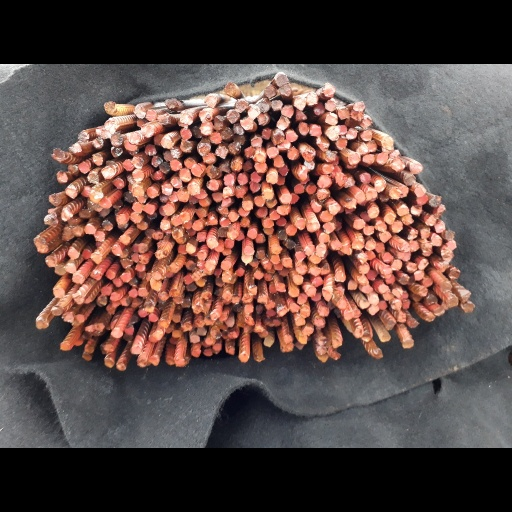dipstick: (32, 236, 50, 253), (203, 92, 219, 109), (324, 124, 339, 142), (198, 107, 214, 123), (43, 210, 59, 226), (420, 238, 434, 256), (223, 81, 238, 97), (277, 82, 293, 97), (275, 115, 291, 130), (301, 146, 317, 161), (327, 344, 342, 360), (177, 112, 194, 126), (273, 71, 290, 85), (316, 135, 330, 152), (271, 128, 285, 145), (214, 143, 228, 160), (100, 165, 117, 179), (89, 185, 103, 202), (295, 163, 308, 181), (46, 192, 64, 205), (196, 141, 211, 156), (190, 162, 205, 177), (103, 119, 118, 134), (316, 187, 331, 202), (321, 82, 335, 98), (257, 97, 271, 113), (354, 140, 370, 154), (205, 164, 221, 178), (381, 135, 395, 151), (275, 203, 292, 216), (221, 270, 238, 283), (304, 91, 318, 106), (234, 99, 249, 113), (308, 122, 322, 137), (324, 110, 338, 125), (335, 135, 349, 150), (286, 145, 300, 160), (226, 109, 241, 123), (178, 167, 192, 182), (55, 169, 70, 183), (361, 152, 376, 166), (440, 247, 454, 262), (213, 114, 226, 130), (127, 131, 143, 144), (318, 162, 335, 174), (360, 113, 374, 127), (347, 152, 361, 166), (239, 116, 253, 130), (199, 121, 213, 135), (208, 130, 222, 144), (227, 140, 241, 154), (254, 160, 268, 174), (234, 185, 248, 199), (429, 232, 443, 246), (335, 296, 349, 310), (424, 291, 438, 305), (264, 84, 277, 99), (293, 95, 306, 110), (313, 101, 326, 116), (297, 121, 310, 136), (141, 123, 154, 138), (123, 139, 138, 152), (66, 163, 81, 176), (176, 187, 189, 202), (390, 158, 405, 171), (409, 161, 424, 174), (387, 186, 402, 199), (51, 285, 66, 298), (201, 152, 217, 164), (65, 183, 77, 199), (344, 172, 356, 188), (315, 242, 327, 258), (281, 104, 294, 118), (294, 107, 307, 121), (336, 106, 349, 120), (247, 104, 260, 118), (345, 127, 358, 141), (285, 129, 299, 142), (218, 126, 232, 139), (190, 124, 203, 138), (323, 149, 336, 163), (218, 159, 231, 173), (131, 155, 145, 168), (109, 133, 123, 146), (110, 144, 124, 157), (77, 160, 91, 173), (317, 174, 331, 187), (80, 184, 93, 198), (98, 195, 112, 208), (62, 226, 75, 240), (402, 172, 416, 185), (432, 204, 446, 217), (226, 227, 240, 240), (340, 242, 353, 256), (202, 334, 216, 347), (294, 261, 307, 275), (293, 313, 307, 326), (349, 110, 364, 122), (134, 103, 146, 118), (162, 134, 174, 149), (230, 157, 242, 172), (241, 158, 253, 173), (68, 142, 83, 154), (131, 184, 146, 196), (334, 172, 346, 187), (342, 197, 357, 209), (373, 219, 388, 231), (447, 267, 462, 279), (305, 221, 321, 232), (235, 312, 246, 328), (359, 128, 372, 141), (260, 127, 273, 140), (232, 122, 245, 135), (252, 150, 265, 163), (152, 133, 165, 146), (180, 127, 193, 140), (179, 140, 192, 153), (206, 178, 219, 191), (143, 143, 156, 156), (122, 158, 135, 171), (132, 169, 145, 182), (146, 186, 159, 199), (222, 186, 235, 199), (129, 211, 142, 224), (85, 196, 98, 209), (67, 245, 80, 258), (179, 211, 192, 224), (358, 171, 371, 184), (407, 239, 420, 252), (174, 357, 187, 370), (262, 335, 275, 348), (164, 97, 178, 109), (352, 100, 366, 112), (336, 122, 348, 136), (277, 139, 291, 151), (248, 181, 262, 193), (169, 159, 183, 171), (150, 155, 164, 167), (158, 160, 170, 174), (51, 148, 65, 160), (86, 170, 100, 182), (112, 176, 126, 188), (170, 176, 184, 188), (188, 182, 200, 196), (252, 195, 266, 207), (101, 218, 113, 232), (92, 230, 106, 242), (376, 151, 388, 165), (396, 204, 410, 216), (320, 210, 334, 222), (322, 222, 336, 234), (400, 213, 414, 225), (63, 262, 77, 274), (53, 264, 67, 276), (35, 318, 49, 330), (310, 275, 324, 287), (299, 304, 311, 318), (311, 316, 325, 328), (417, 257, 429, 271), (231, 133, 246, 144), (43, 255, 58, 266), (308, 253, 323, 264), (328, 239, 343, 250), (118, 271, 133, 282), (145, 109, 157, 122), (157, 112, 169, 125), (325, 97, 337, 110), (257, 112, 269, 125), (250, 135, 262, 148), (104, 101, 116, 114), (273, 154, 285, 167), (266, 171, 278, 184), (183, 157, 196, 169), (170, 145, 182, 158), (77, 130, 90, 142), (91, 153, 104, 165), (293, 182, 305, 195), (124, 190, 136, 203), (142, 203, 155, 215), (61, 208, 73, 221), (327, 203, 340, 215), (397, 184, 409, 197), (414, 184, 426, 197), (429, 195, 442, 207), (293, 218, 306, 230), (353, 191, 365, 204), (365, 189, 378, 201), (419, 227, 432, 239), (352, 237, 364, 250), (285, 223, 297, 236), (269, 243, 282, 255), (240, 251, 253, 263), (104, 268, 117, 280), (95, 294, 108, 306), (103, 356, 115, 369), (215, 275, 227, 288), (287, 286, 300, 298), (331, 336, 344, 348), (321, 289, 333, 302), (367, 292, 379, 305), (357, 262, 370, 274), (405, 262, 418, 274), (440, 280, 452, 293), (266, 147, 280, 158), (302, 159, 316, 170), (150, 170, 164, 181), (305, 181, 316, 195), (389, 221, 403, 232), (378, 231, 392, 242), (352, 218, 366, 229), (194, 231, 208, 242), (120, 257, 134, 268), (150, 277, 161, 291), (287, 302, 301, 313), (401, 338, 415, 349), (432, 305, 446, 316), (396, 250, 410, 261), (135, 117, 149, 128), (244, 144, 254, 159), (71, 273, 86, 283), (100, 343, 115, 353), (359, 283, 374, 293), (270, 98, 282, 110), (162, 204, 174, 216), (115, 213, 127, 225), (78, 208, 94, 217), (111, 244, 123, 256), (159, 218, 171, 230), (206, 214, 218, 226), (310, 200, 322, 212), (411, 204, 423, 216), (367, 206, 379, 218), (239, 216, 251, 228), (204, 259, 216, 271), (252, 269, 264, 281), (318, 232, 330, 244), (168, 261, 180, 273), (123, 323, 135, 335), (237, 351, 249, 363), (262, 315, 274, 327), (304, 285, 316, 297), (296, 293, 308, 305), (352, 326, 364, 338), (334, 270, 346, 282), (390, 298, 402, 310), (390, 259, 402, 271), (223, 172, 234, 185), (279, 193, 292, 204), (91, 137, 104, 148), (195, 188, 208, 199), (98, 207, 111, 218), (83, 224, 96, 235), (366, 139, 377, 152), (374, 179, 385, 192), (383, 213, 396, 224), (359, 211, 372, 222), (434, 220, 445, 233), (443, 230, 456, 241), (374, 241, 385, 254), (283, 239, 296, 250), (206, 238, 219, 249), (295, 250, 306, 263), (303, 245, 316, 256), (73, 292, 84, 305), (61, 311, 74, 322), (58, 340, 71, 351), (100, 285, 113, 296), (110, 327, 123, 338), (210, 326, 221, 339), (228, 326, 239, 339), (291, 274, 304, 285), (296, 333, 309, 344), (314, 335, 327, 346), (315, 345, 328, 356), (460, 292, 473, 303), (198, 196, 212, 206), (237, 207, 251, 217), (254, 207, 268, 217), (88, 270, 102, 280), (256, 328, 270, 338), (307, 266, 321, 276), (462, 303, 476, 313), (376, 284, 390, 294), (237, 173, 248, 185), (125, 171, 136, 183), (162, 183, 173, 195), (212, 191, 223, 203), (265, 197, 276, 209), (131, 201, 143, 212), (71, 226, 83, 237), (91, 250, 102, 262), (191, 220, 203, 231), (172, 227, 183, 239), (424, 214, 435, 226), (407, 228, 418, 240), (364, 239, 376, 250), (219, 216, 231, 227), (246, 227, 257, 239), (276, 229, 288, 240), (185, 242, 196, 254), (196, 248, 207, 260), (224, 236, 235, 248), (269, 254, 281, 265), (138, 252, 149, 264), (195, 258, 206, 270), (115, 360, 127, 371), (149, 355, 160, 367), (180, 296, 191, 308), (192, 301, 203, 313), (244, 313, 255, 325), (243, 303, 254, 315), (283, 333, 295, 344), (275, 282, 287, 293), (320, 263, 331, 275), (343, 310, 355, 321), (356, 252, 367, 264), (416, 286, 428, 297), (437, 261, 448, 273), (158, 193, 171, 203), (227, 211, 240, 221), (445, 240, 458, 250), (216, 227, 229, 237), (241, 293, 254, 303), (281, 343, 294, 353), (367, 305, 380, 315), (396, 310, 406, 323), (381, 265, 391, 278), (400, 297, 410, 310), (415, 196, 429, 205), (250, 171, 261, 182), (262, 189, 273, 200), (162, 150, 173, 161), (188, 194, 199, 205), (119, 233, 130, 244), (171, 214, 182, 225), (138, 242, 149, 253), (399, 241, 410, 252), (255, 232, 266, 243), (276, 215, 287, 226), (255, 249, 266, 260), (263, 271, 274, 282), (282, 257, 293, 268), (185, 260, 196, 271), (137, 287, 148, 298), (201, 289, 212, 300), (247, 285, 258, 296), (257, 293, 268, 304), (310, 291, 321, 302), (425, 312, 436, 323), (347, 279, 358, 290), (366, 269, 377, 280), (378, 192, 389, 203), (278, 165, 288, 177), (241, 200, 253, 210), (112, 200, 124, 210), (195, 207, 207, 217), (217, 205, 229, 215), (333, 220, 343, 232), (363, 225, 375, 235), (177, 244, 189, 254), (134, 261, 146, 271), (51, 306, 63, 316), (130, 345, 142, 355), (119, 297, 131, 307), (168, 288, 180, 298), (147, 312, 159, 322), (172, 294, 184, 304), (183, 273, 193, 285), (192, 269, 202, 281), (230, 303, 242, 313), (316, 353, 328, 363), (318, 307, 330, 317), (363, 332, 373, 344), (334, 286, 344, 298), (381, 252, 393, 262), (384, 274, 396, 284), (397, 275, 409, 285), (413, 270, 425, 280), (174, 235, 187, 244), (248, 259, 261, 268), (106, 302, 115, 315), (264, 308, 277, 317), (407, 319, 420, 328), (447, 298, 460, 307), (220, 198, 234, 206), (276, 175, 286, 186), (67, 217, 78, 227), (81, 248, 92, 258), (144, 228, 155, 238), (152, 229, 163, 239), (155, 249, 166, 259), (130, 242, 140, 253), (262, 218, 273, 228), (221, 260, 232, 270), (244, 245, 255, 255), (262, 259, 272, 270), (152, 270, 162, 281), (110, 291, 121, 301), (95, 321, 105, 332), (127, 288, 138, 298), (158, 290, 169, 300), (147, 333, 158, 343), (137, 358, 148, 368), (195, 277, 206, 287), (196, 326, 207, 336), (190, 348, 201, 358), (212, 343, 222, 354), (377, 300, 388, 310), (379, 332, 390, 342), (385, 319, 395, 330), (392, 287, 402, 298), (269, 210, 281, 219), (262, 226, 274, 235), (73, 314, 85, 323), (131, 298, 143, 307), (170, 329, 182, 338), (193, 318, 205, 327), (189, 334, 201, 343), (202, 347, 214, 356), (255, 304, 264, 316), (277, 268, 289, 277), (302, 325, 314, 334), (358, 299, 370, 308), (291, 192, 299, 205), (216, 239, 224, 252), (136, 269, 146, 279), (159, 319, 169, 329), (171, 313, 181, 323), (234, 266, 244, 276), (204, 315, 214, 325), (209, 311, 219, 321), (265, 300, 275, 310), (277, 306, 287, 316), (366, 250, 376, 260), (422, 276, 432, 286), (295, 341, 305, 351), (185, 228, 196, 237), (120, 246, 129, 257), (332, 164, 343, 173), (389, 149, 400, 158), (131, 251, 140, 262), (84, 323, 95, 332), (137, 308, 148, 317), (213, 286, 224, 295), (181, 322, 192, 331), (254, 354, 265, 363), (375, 348, 384, 359), (135, 221, 147, 229), (136, 195, 146, 204), (84, 344, 94, 353), (144, 303, 154, 312), (153, 330, 162, 340), (165, 356, 175, 365), (169, 336, 179, 345), (226, 345, 236, 354), (271, 318, 281, 327), (268, 283, 277, 293), (95, 125, 103, 136), (223, 290, 231, 301), (145, 212, 157, 219), (214, 268, 223, 277), (353, 308, 362, 317), (273, 262, 283, 270), (128, 277, 138, 285), (231, 295, 241, 303), (225, 318, 235, 326), (254, 324, 264, 332), (441, 301, 451, 309), (221, 248, 232, 255), (82, 352, 93, 359), (221, 329, 228, 340), (411, 294, 422, 301), (218, 312, 227, 320), (401, 290, 409, 299), (74, 338, 84, 345), (184, 221, 192, 229), (84, 296, 92, 304)
